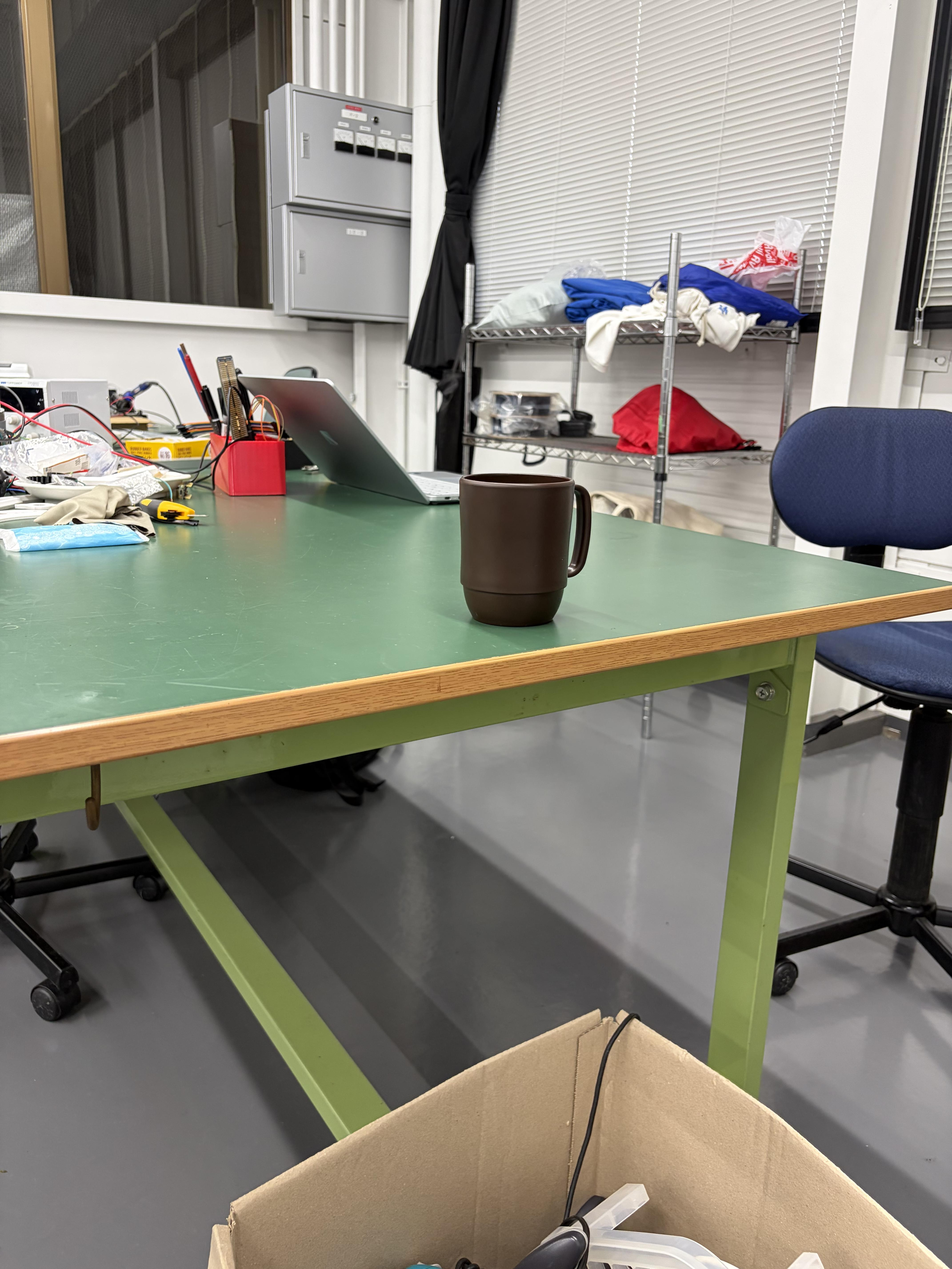mug-real100-3d100: (459, 473, 592, 626)
